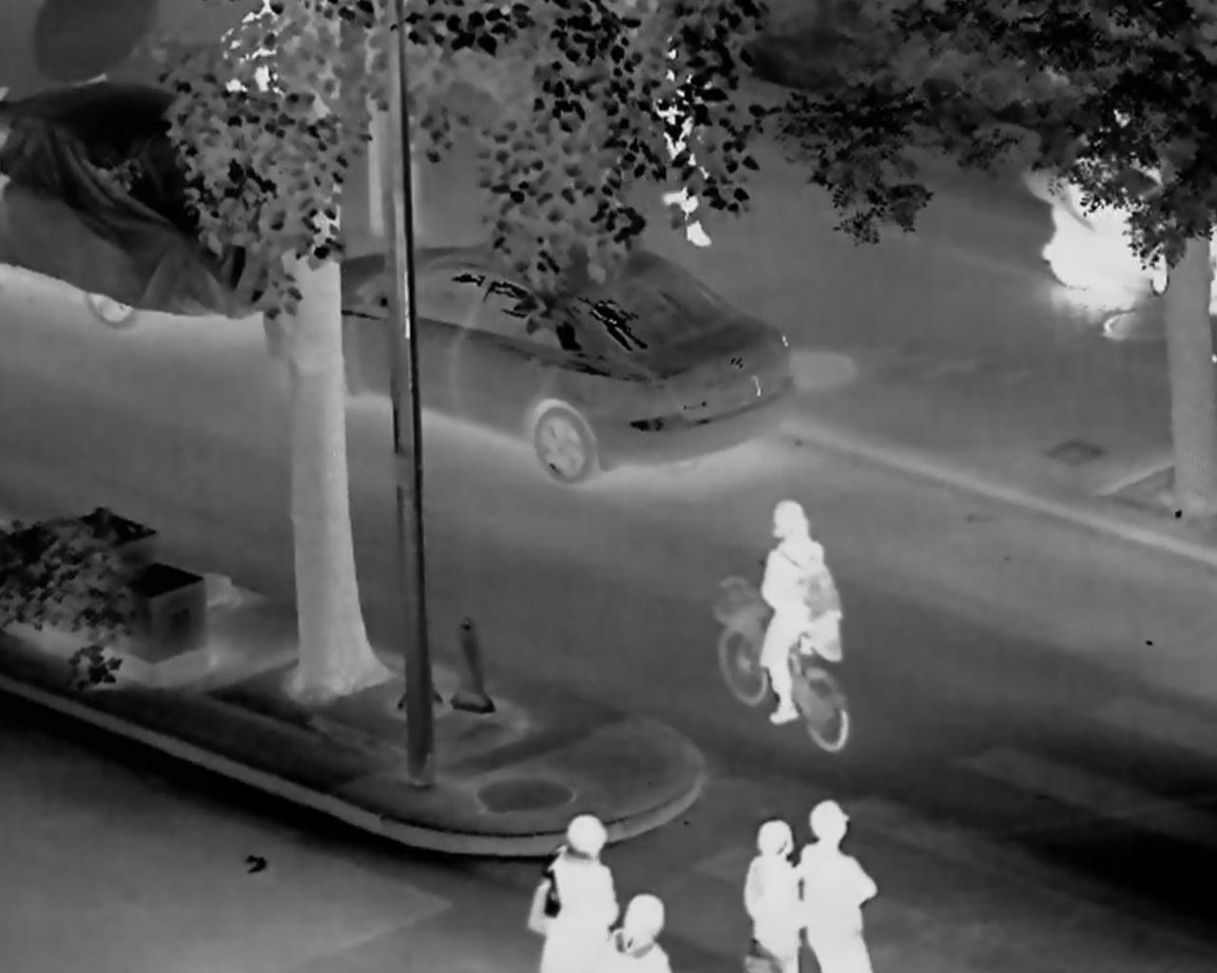person: (759, 497, 838, 729), (643, 29, 712, 250), (526, 813, 618, 973), (797, 801, 874, 972), (743, 820, 799, 973), (606, 895, 672, 973)
